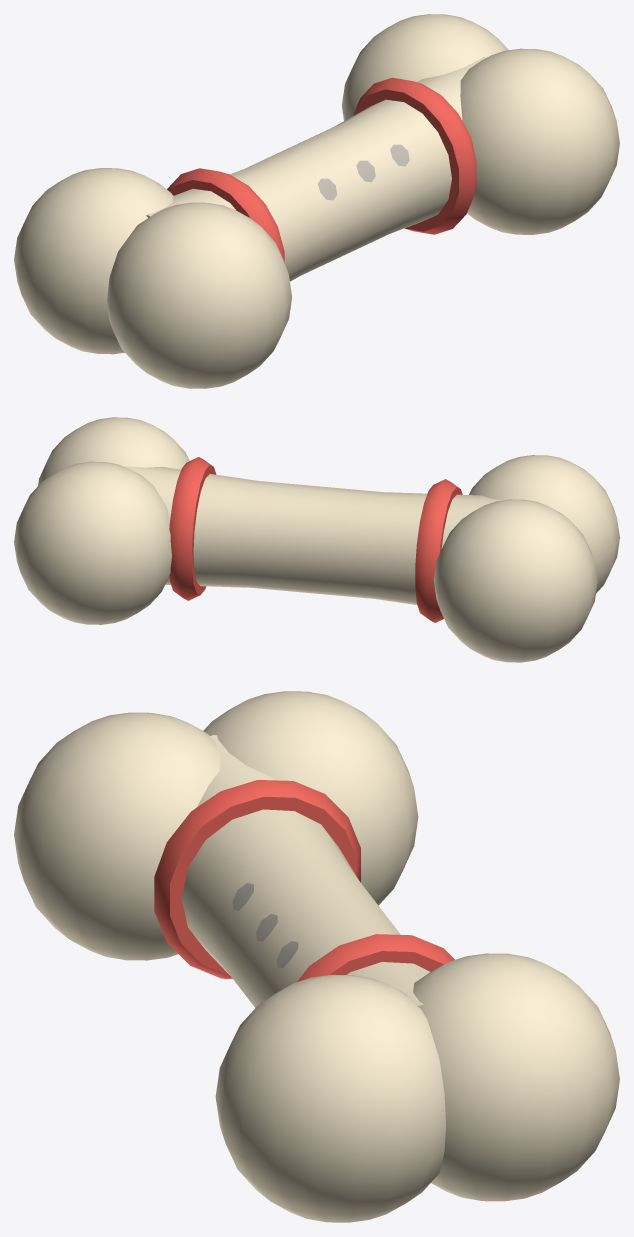
Rendered from prop_bone_toy.glb.
The picture shows the model from 3 angles, top to bottom: view 1: azimuth 30°, elevation 25°; view 2: azimuth 150°, elevation 25°; view 3: azimuth 270°, elevation 25°; orthographic projection. The views are drawn at different scales.
Visible parts, largest first — view 1: prop_bone_toy; view 2: prop_bone_toy; view 3: prop_bone_toy.
Part boxes in pixels (box(x1,y1,x2,y2)): prop_bone_toy: box(14, 14, 619, 388); prop_bone_toy: box(14, 417, 619, 662); prop_bone_toy: box(14, 691, 619, 1222).
Size of the model in its own units: 0.9567 by 0.26 by 0.6317.
